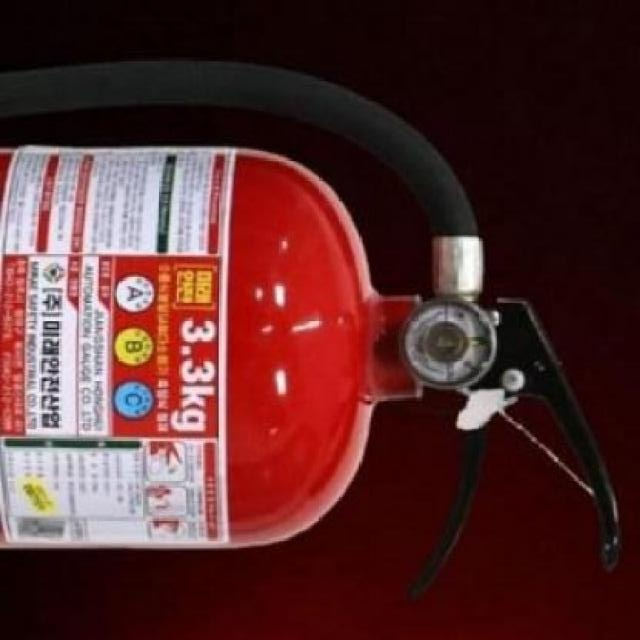fire extinguisher: (0, 57, 623, 600)
